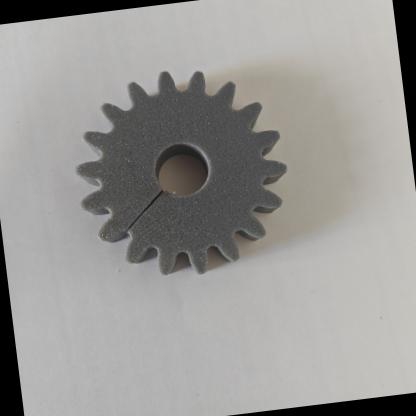defect: (84, 172, 204, 272)
gear: (54, 46, 311, 297)
